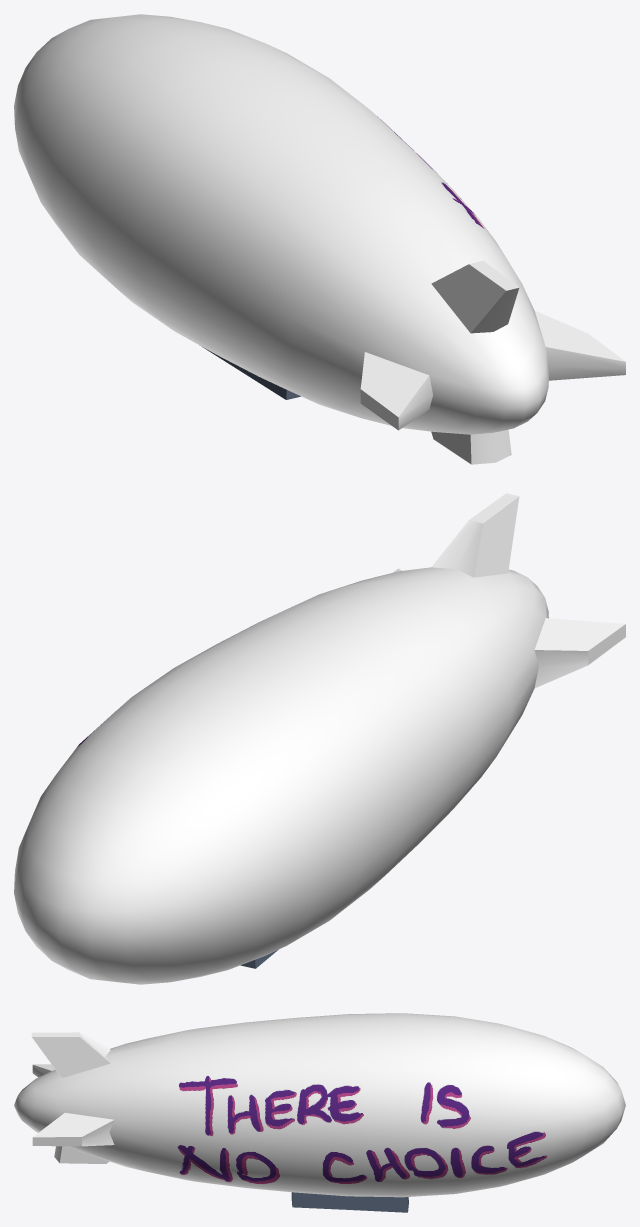
File: zeppelin.fbx
3 views of the same model, one above another, from view 1: azimuth 30°, elevation 25°; view 2: azimuth 150°, elevation 25°; view 3: azimuth 270°, elevation 25° (orthographic). The views are drawn at different scales.
Parts seen in each view (by area): view 1: zeppelin; view 2: zeppelin; view 3: zeppelin.
Part boxes in pixels (left/top/right/bottom): zeppelin: left=14, top=14, right=625, bottom=464; zeppelin: left=14, top=493, right=625, bottom=984; zeppelin: left=14, top=1013, right=625, bottom=1212.
Bounding box in the file's own units: 3246 × 3088 × 9670.
